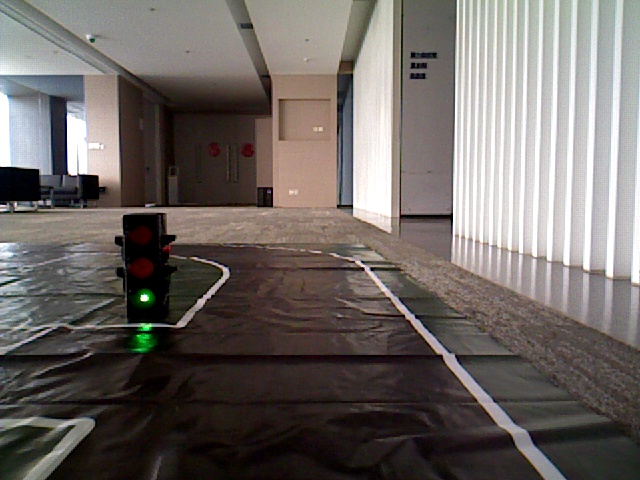green: (123, 215, 166, 308)
